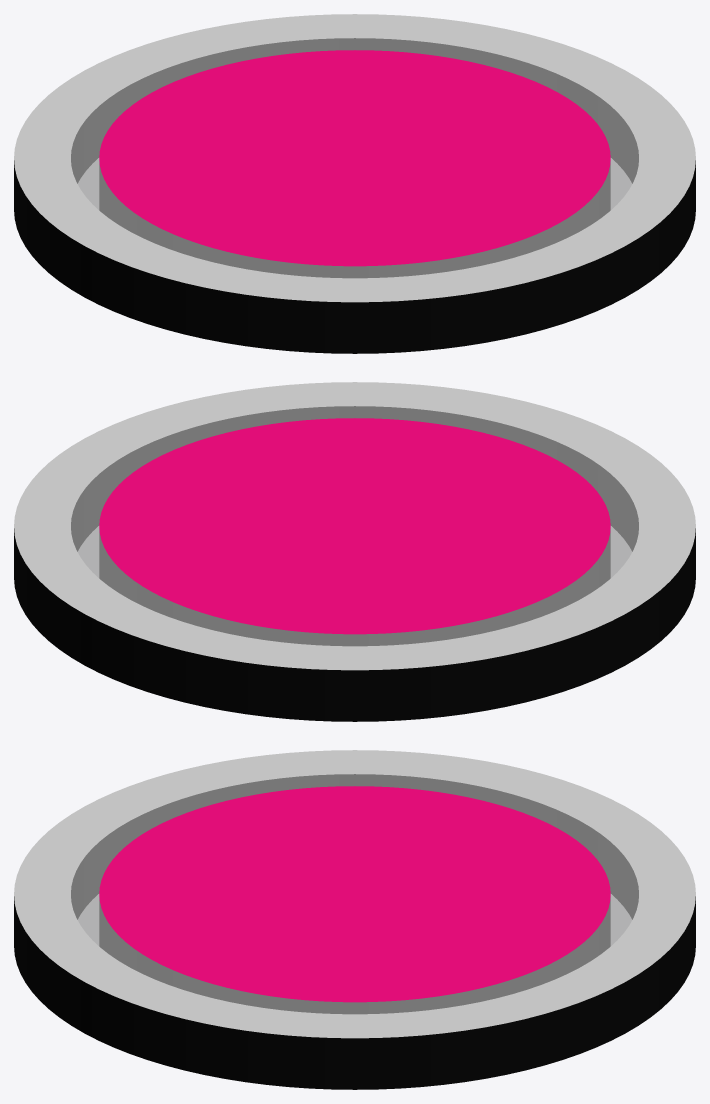
File: Spawn Point.fbx
3 views of the same model, one above another, from view 1: azimuth 30°, elevation 25°; view 2: azimuth 150°, elevation 25°; view 3: azimuth 270°, elevation 25° (orthographic).
Parts seen in each view (by area): view 1: Stage_Quarter1; view 2: Stage_Quarter1; view 3: Stage_Quarter1.
Boxes of the visible parts, <box> form: Stage_Quarter1: <box>14,14,695,353</box>; Stage_Quarter1: <box>14,382,695,721</box>; Stage_Quarter1: <box>14,750,695,1089</box>.
Bounding box in the file's own units: 236 × 19.69 × 236.
